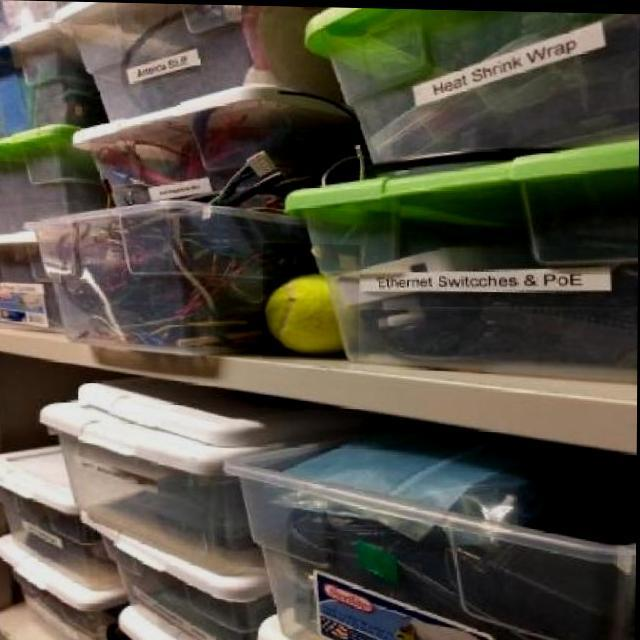-: (263, 242, 360, 360)
